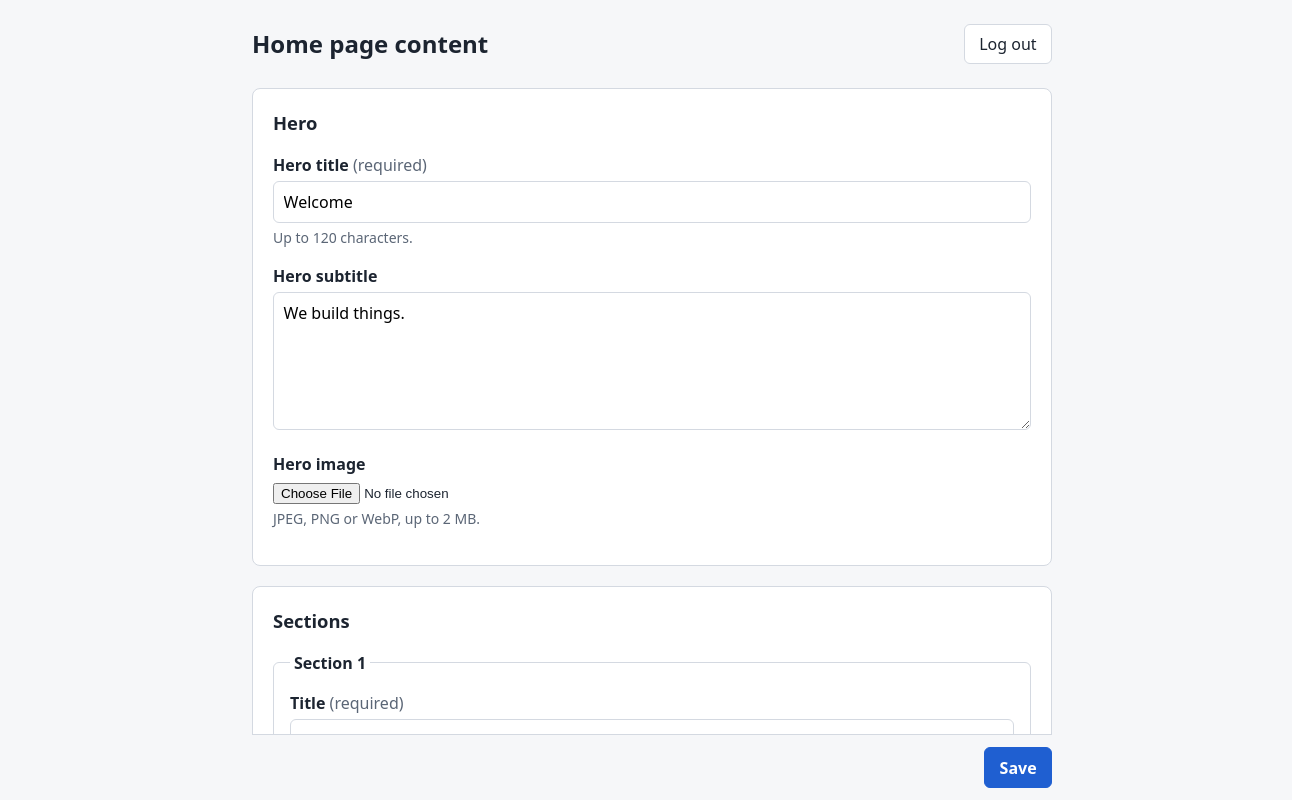
Test: Session end › API returns 401 on save → sent to the login page
Check: the field showing "Welcome" is shown, box [273,181,1031,223]
Click the button "Save" at coordinates (1018, 768), box [984,748,1052,788]
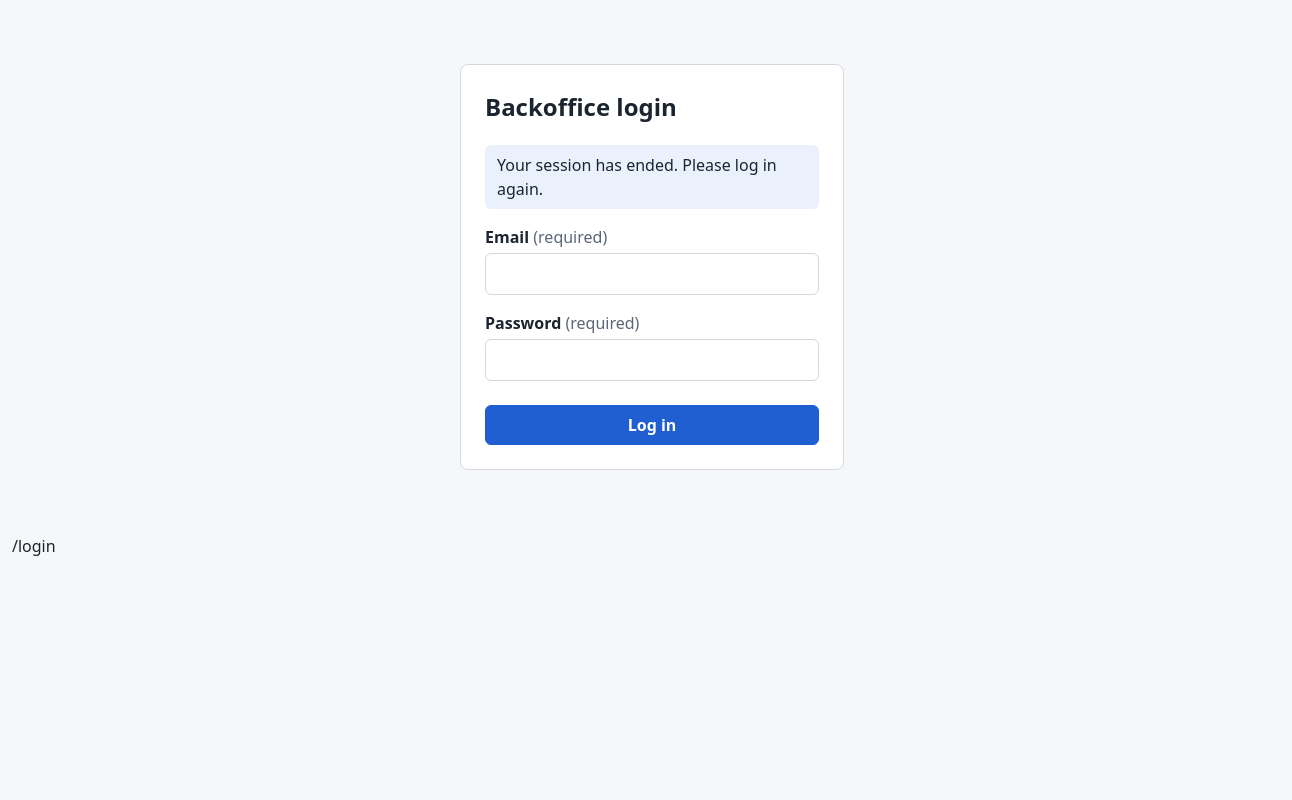
Check: the text with test id "path" reads "/login", box [12,535,56,557]
Check: the text "Your session has ended. Please log in again." is shown, box [485,145,819,209]
